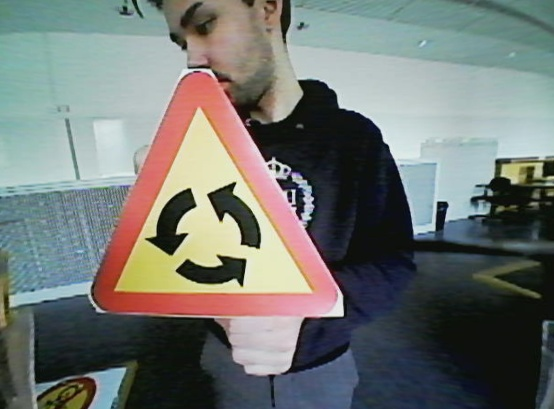roundabout_warning: (70, 65, 353, 323)
